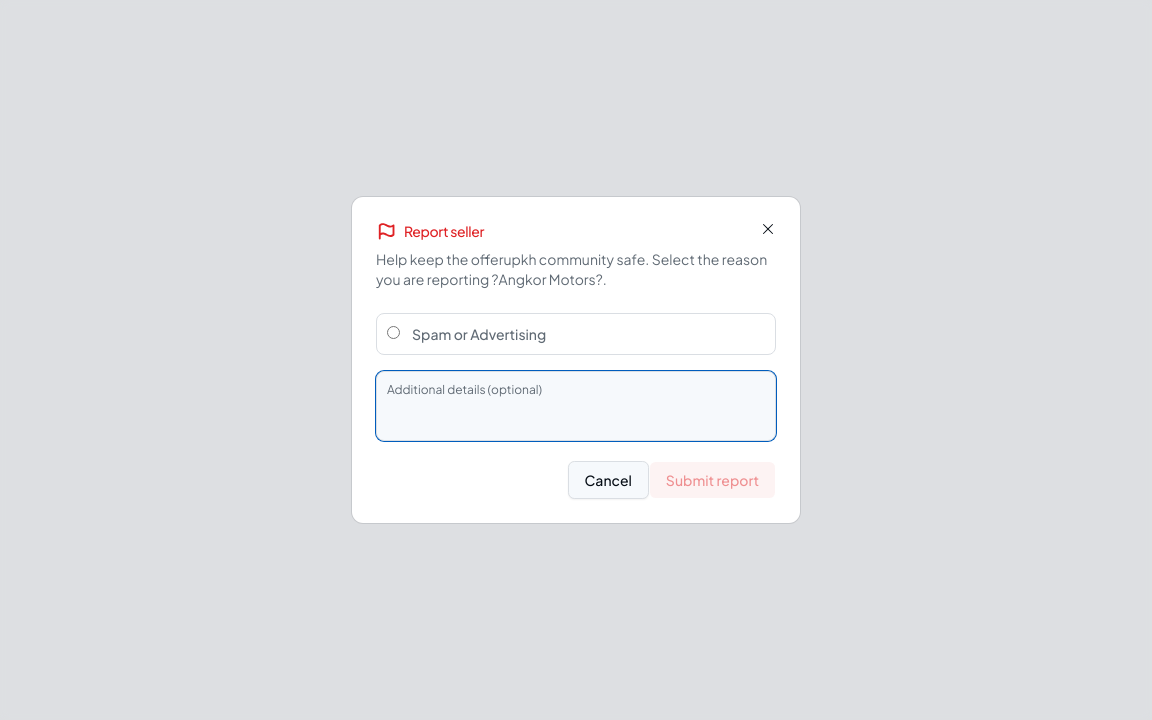
Scenario: report seller › offers only the reasons the backend returns and posts the chosen reason id with details
Expected: the text "Spam or Advertising" is shown, [412,324,546,344]
Expected: the button "Submit report" is disabled, [649,461,776,499]
Click the radio button labelled "Spam or Advertising" at point(394, 332), box [387,326,400,339]
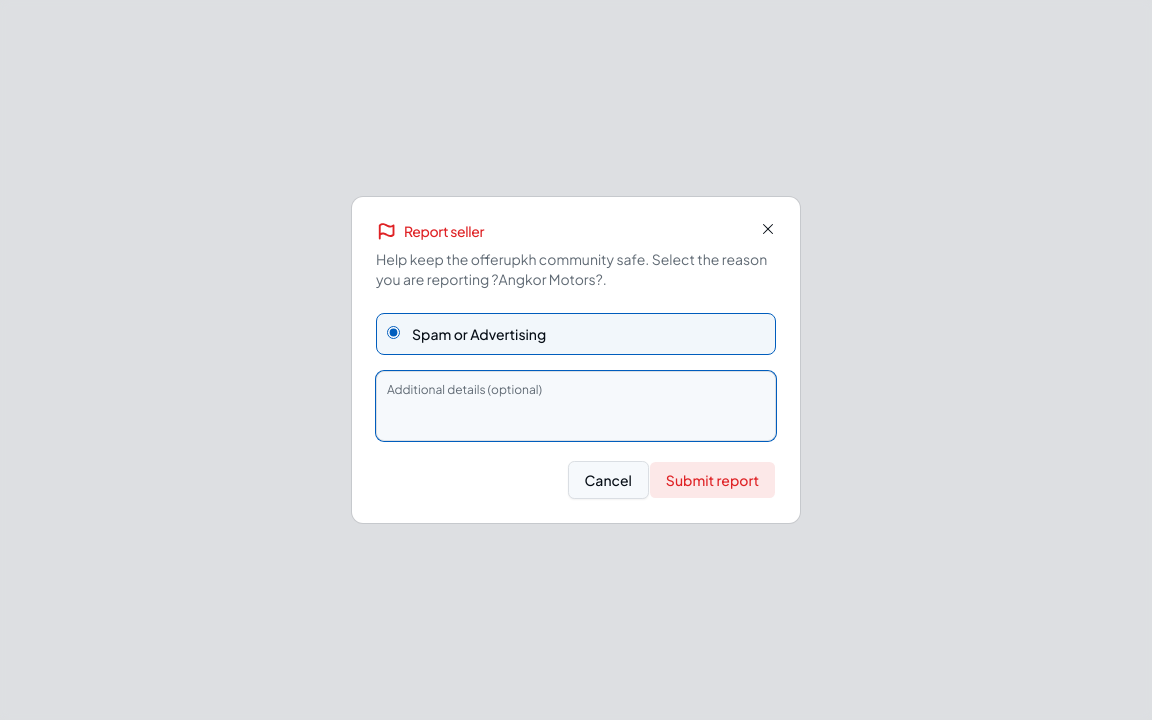
Type " keeps spamming " into the text box labelled "Additional details" at point(576, 406), box [376,371,776,441]
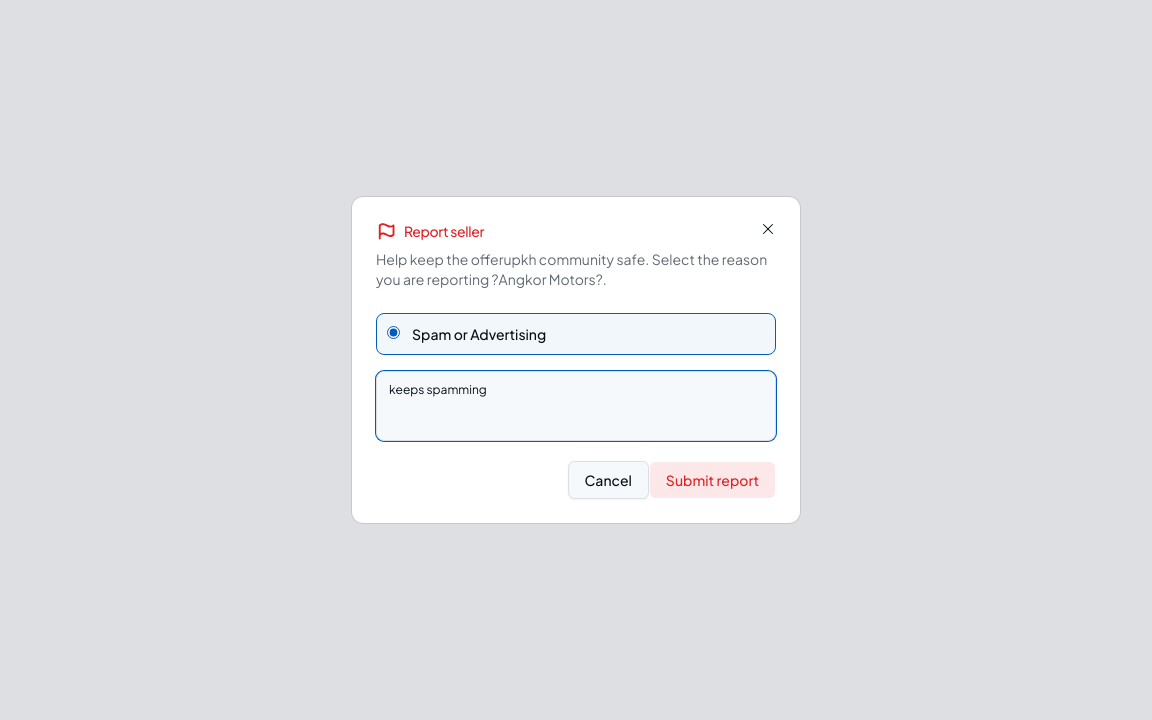
Click the button "Submit report" at point(712, 480), box [649,461,776,499]
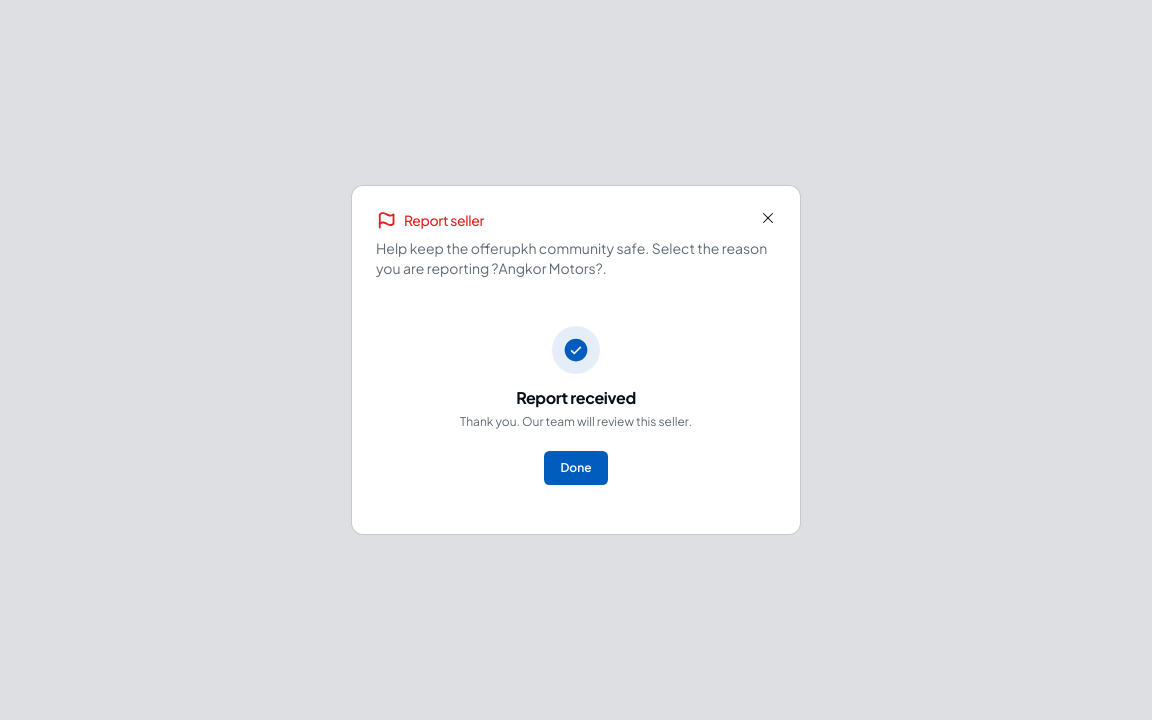
Expected: the heading "Report received" is shown, [516,387,636,408]
